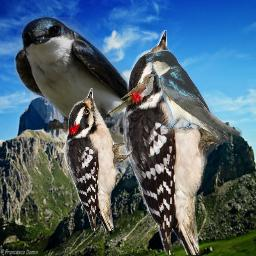Cuckoo: (106, 73, 158, 115)
Swallow: (14, 17, 203, 176), (146, 50, 242, 143)
Woodpecker: (123, 30, 228, 255), (65, 88, 132, 231)
